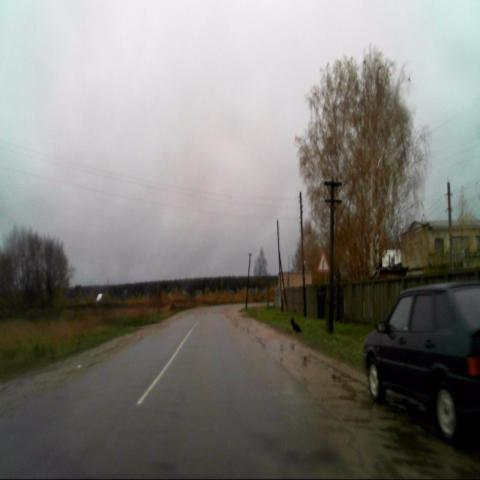1_11: (317, 250, 330, 273)
